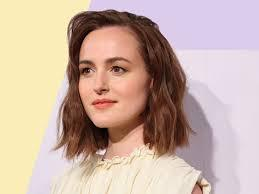Persons: (53, 9, 199, 166)
